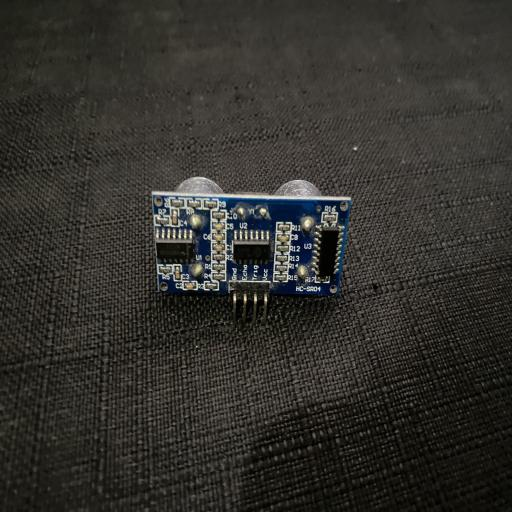Ultrasonic Sensor: (152, 175, 352, 327)
